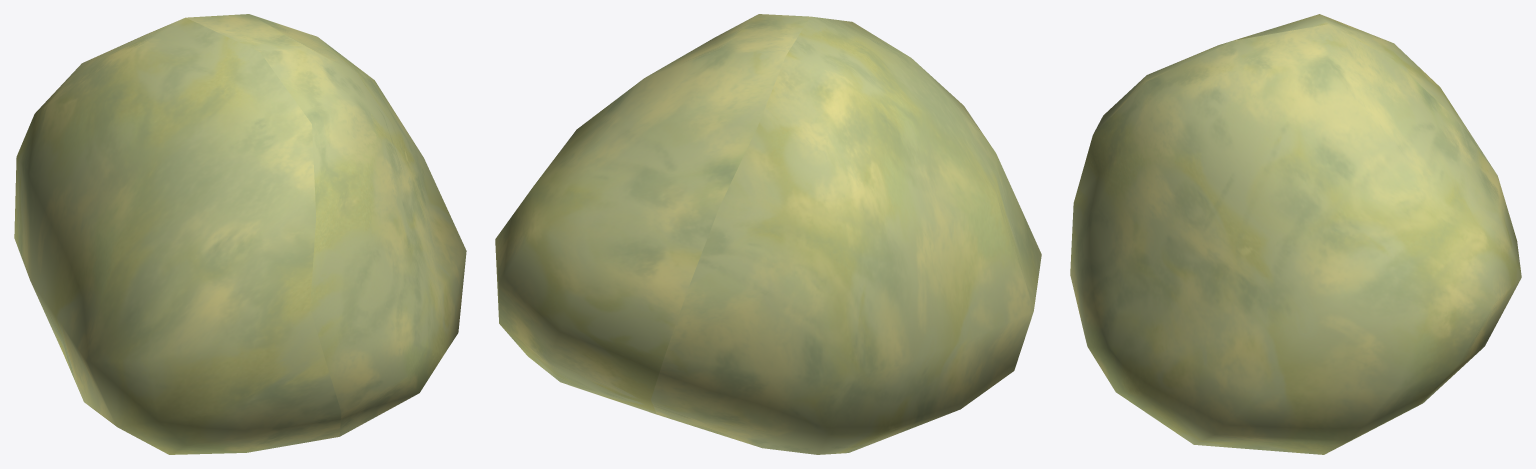
File: m_bush_01.fbx
3 views of the same model, side by side, from view 1: azimuth 30°, elevation 25°; view 2: azimuth 150°, elevation 25°; view 3: azimuth 270°, elevation 25° (orthographic). The views are drawn at different scales.
Parts seen in each view (by area): view 1: m_bush_01; view 2: m_bush_01; view 3: m_bush_01.
Part boxes in pixels (x1,y1,x2,y2): m_bush_01: (14, 14, 466, 454); m_bush_01: (495, 14, 1041, 454); m_bush_01: (1070, 14, 1521, 454).
Bounding box in the file's own units: 268 × 234 × 265.
